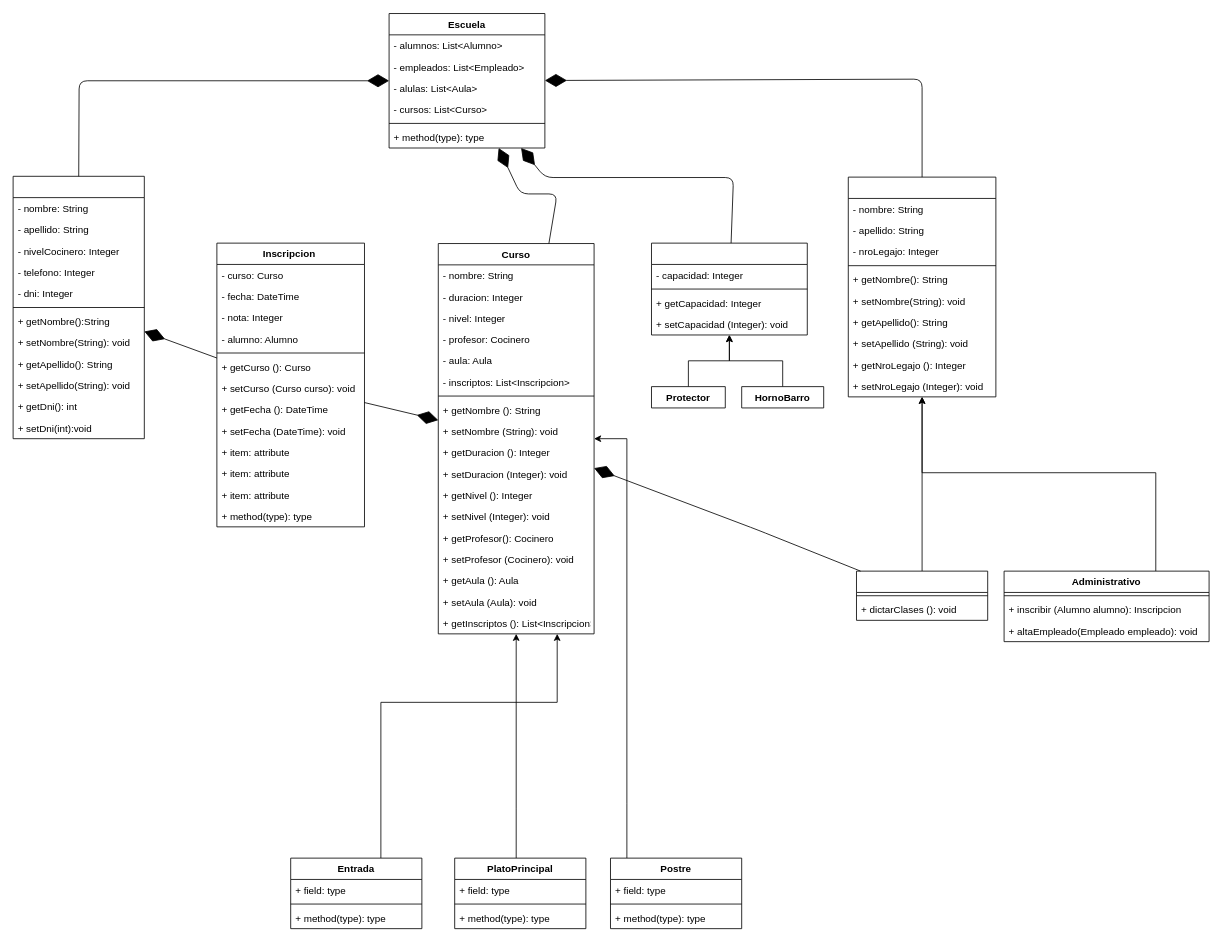
Image size: 1223x942. Some labels were removed from this diagram. Each missing label, with the box of its shape:
Alumno: (12, 175, 144, 439)
Aula: (651, 242, 807, 335)
Cocinero: (856, 570, 988, 620)
Empleado: (847, 176, 996, 397)
